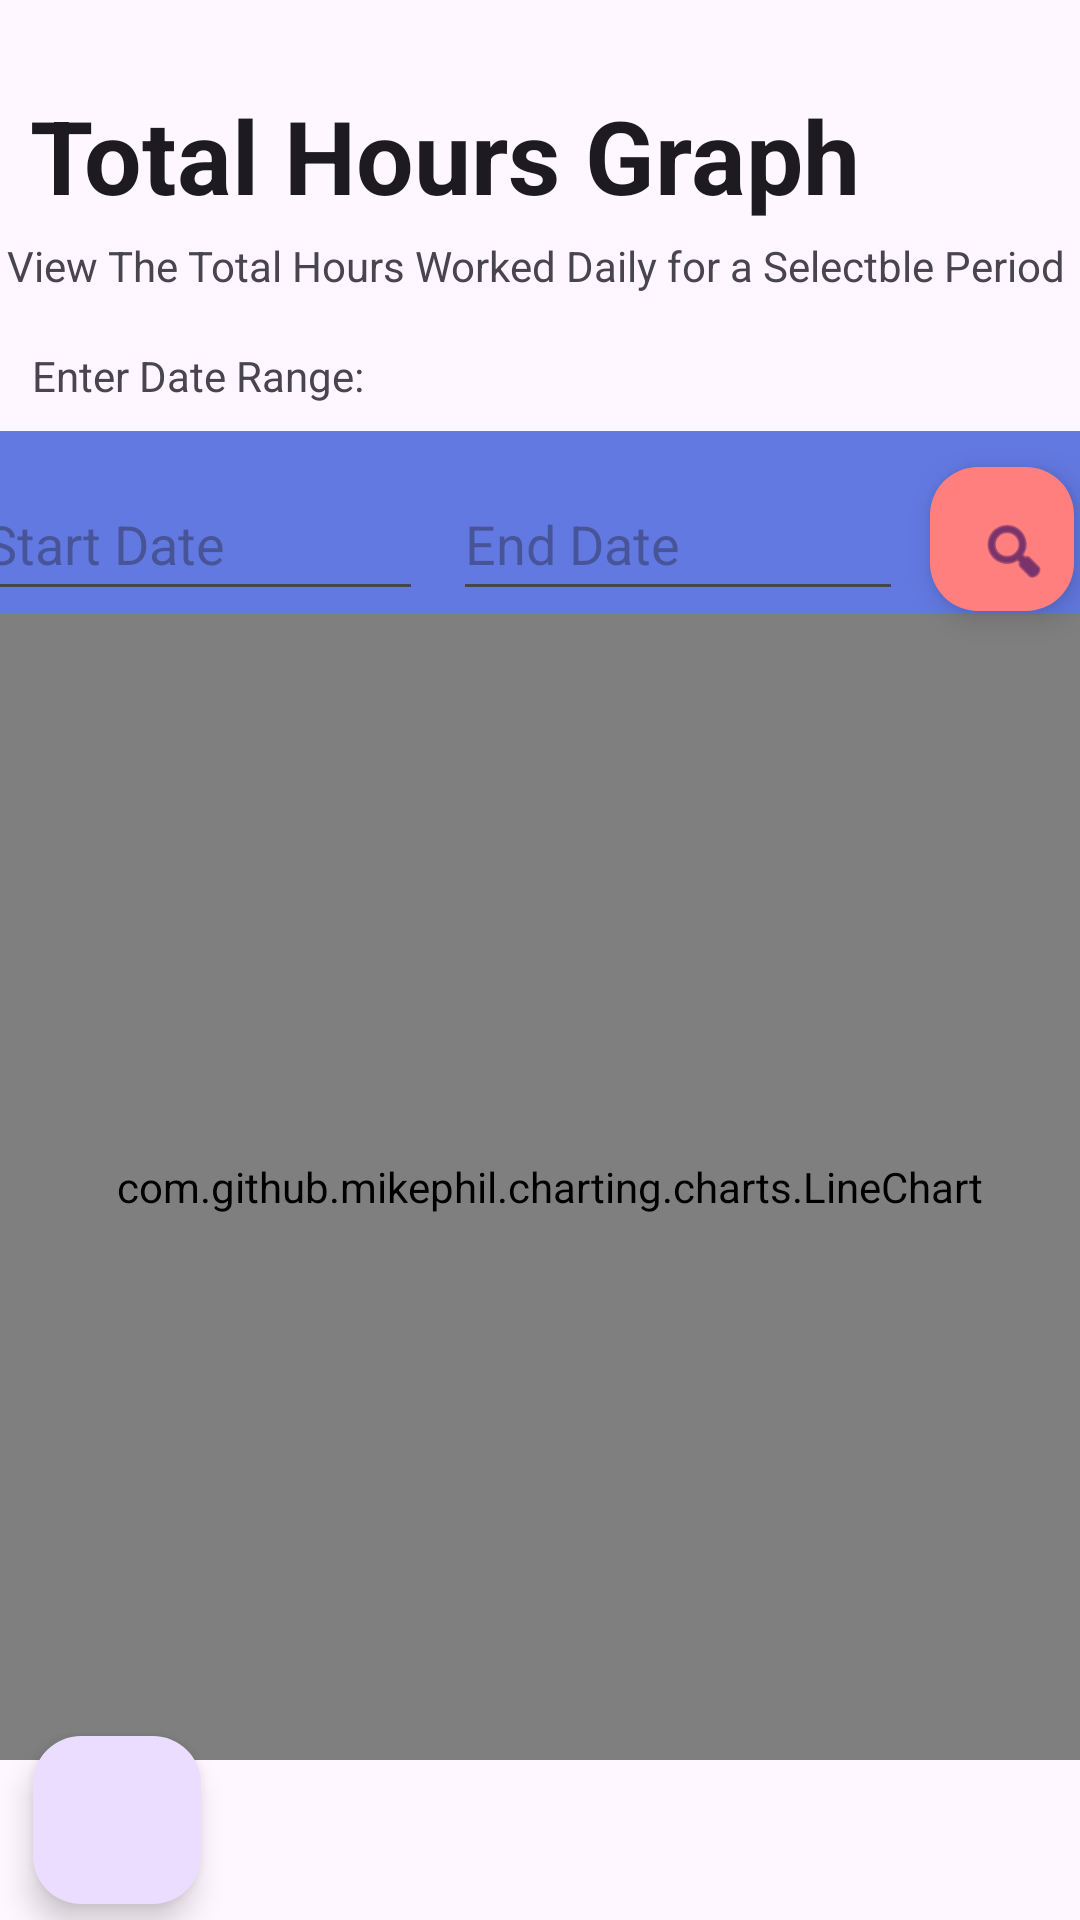

Named icons in this screenshot (1080w x 1920h) and their centers, point (x, y):
search: point (1002, 539)
